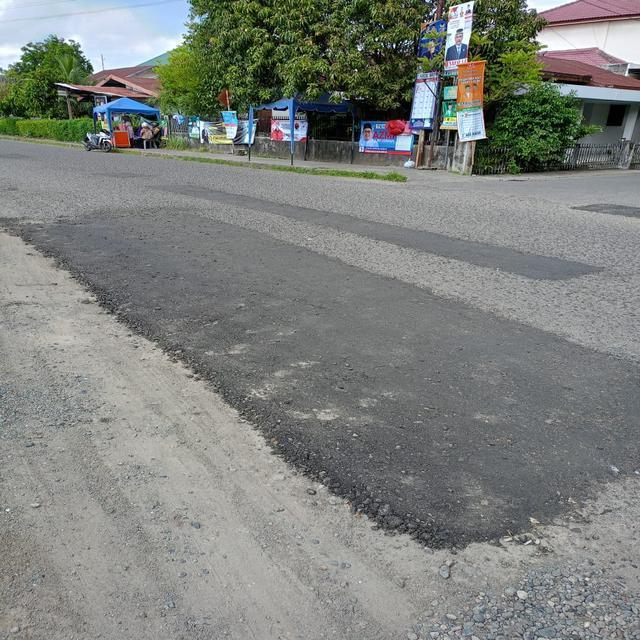Sambungan: (3, 202, 640, 553), (153, 183, 606, 285)
